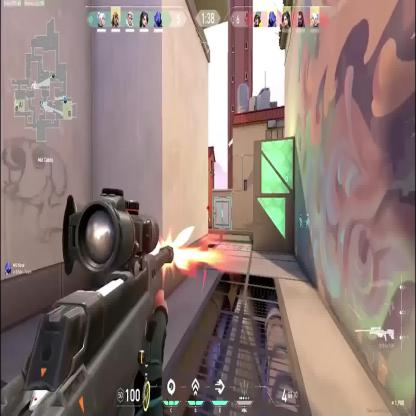enemy: (206, 210, 211, 231)
